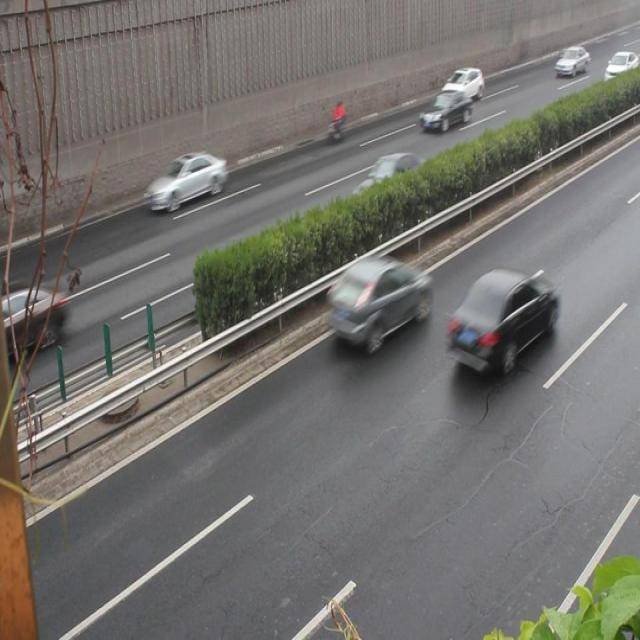car: (446, 266, 557, 374), (326, 251, 429, 346), (350, 153, 429, 224), (0, 278, 70, 356), (144, 151, 227, 212), (418, 89, 472, 134), (440, 67, 484, 101)
